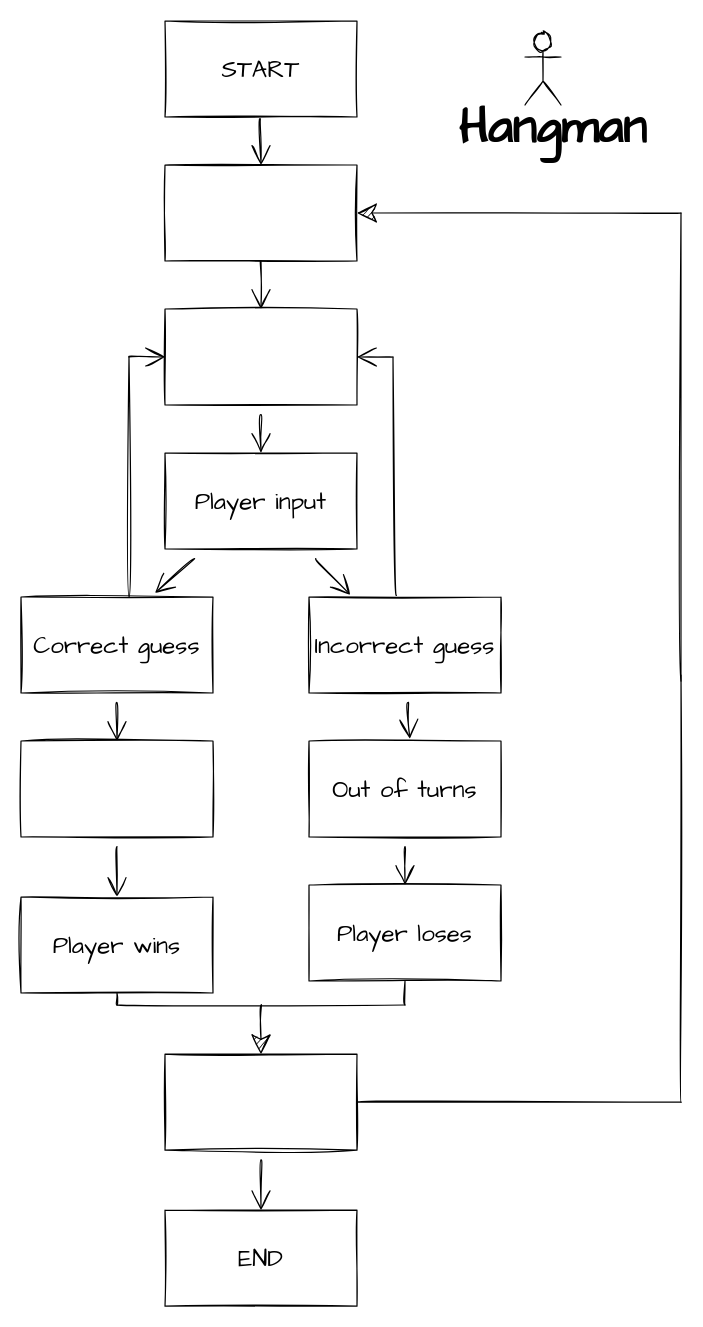
The diagram is 703 pixels wide and 1327 high, and some of its shapes have lost their labels. Here are the shapes that lost their labels. From the top down, the centre of each, then its label:
At point 260,212: "Generate random word".
At point 260,356: "Show updated hangman".
At point 116,788: "All letters guessed".
At point 260,1101: "Play again?".
